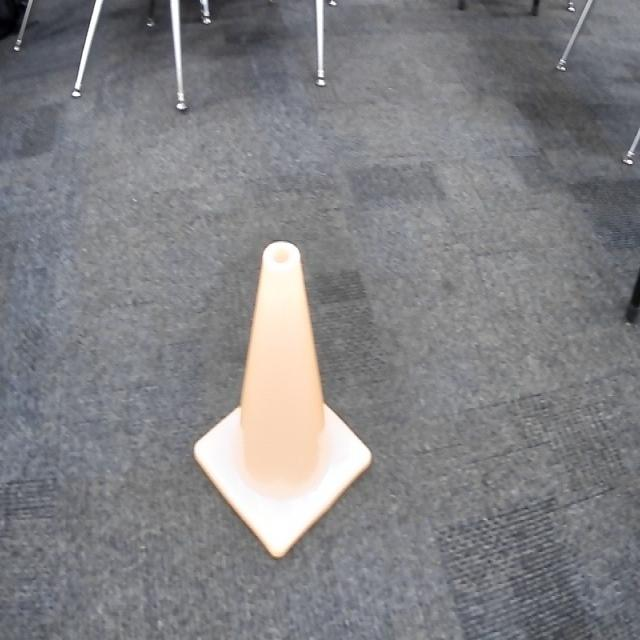cone: (195, 242, 372, 560)
